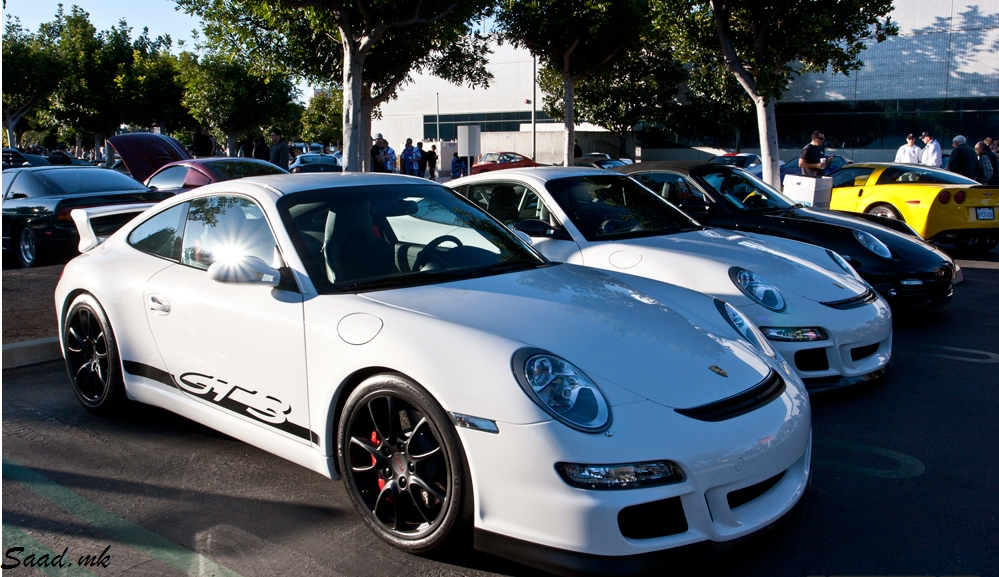car: (91, 171, 808, 549), (453, 172, 904, 382), (838, 163, 997, 241)
person: (795, 131, 836, 173), (949, 135, 979, 177), (899, 132, 922, 168)
